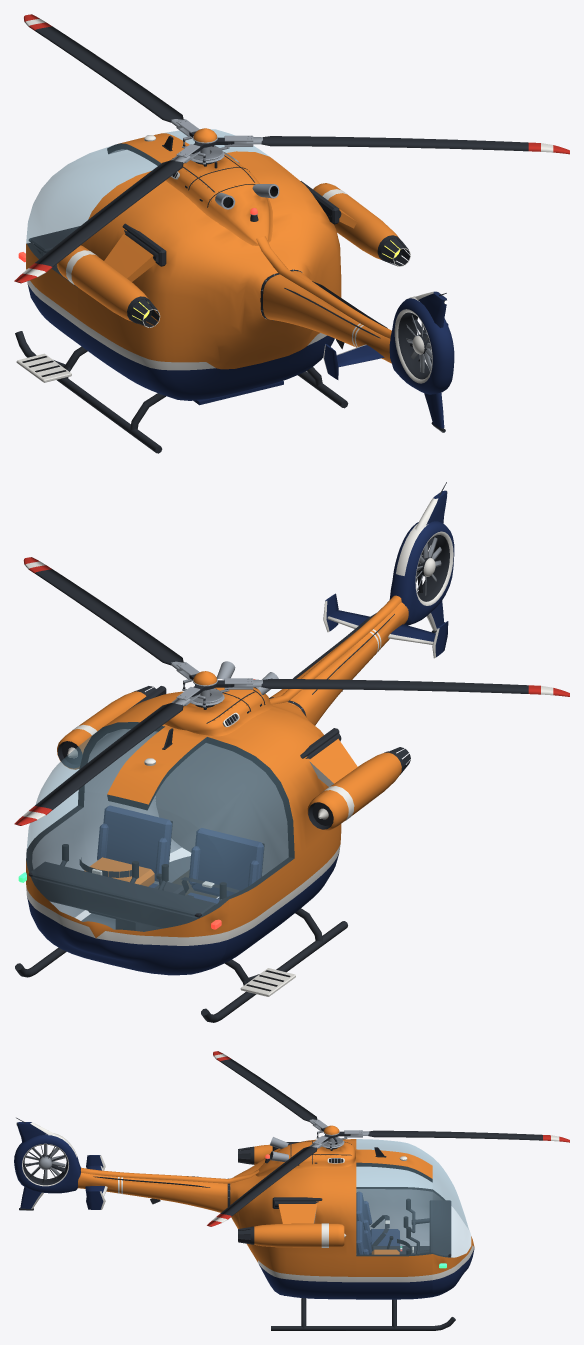
The model's file is helicopter_boarding.glb.
The picture shows the model from 3 angles, top to bottom: view 1: azimuth 30°, elevation 25°; view 2: azimuth 150°, elevation 25°; view 3: azimuth 270°, elevation 25°; orthographic projection. The views are drawn at different scales.
Parts seen in each view (by area): view 1: Body, Door_L, MainRotorBlades, Windows, JetPod_L, FrameAndSkids, JetPod_R, MainRotor, Step_L, Interior, JetNozzle_L, JetNozzle_R; view 2: Body, Windows, Interior, Door_L, MainRotorBlades, Door_R, JetPod_L, Seat_L, Seat_R, FrameAndSkids, JetPod_R, MainRotor (+2 smaller); view 3: Body, Door_R, Door_L, MainRotorBlades, JetPod_R, Windows, Interior, FrameAndSkids, Seat_L, MainRotor, Seat_R, TailRotor.
Boxes of the visible parts, x1,y1,x2,y2 form: Body: (26, 133, 454, 432); Door_L: (26, 143, 160, 354); MainRotorBlades: (14, 14, 569, 283); Windows: (26, 135, 194, 243); JetPod_L: (57, 230, 158, 323); FrameAndSkids: (15, 181, 348, 453); JetPod_R: (313, 183, 402, 262); MainRotor: (171, 119, 262, 164); Step_L: (16, 353, 71, 382); Interior: (28, 226, 79, 266); JetNozzle_L: (130, 299, 160, 327); JetNozzle_R: (381, 238, 410, 266); Body: (26, 482, 454, 975); Windows: (26, 791, 228, 931); Interior: (28, 731, 288, 931); Door_L: (149, 737, 294, 968); MainRotorBlades: (14, 557, 569, 825); Door_R: (27, 722, 164, 910); JetPod_L: (305, 733, 403, 830); Seat_L: (188, 828, 264, 903); Seat_R: (88, 805, 172, 918); FrameAndSkids: (15, 686, 347, 1022); JetPod_R: (57, 690, 148, 769); MainRotor: (171, 661, 262, 707); Body: (14, 1117, 474, 1299); Door_R: (356, 1163, 432, 1298); Door_L: (356, 1139, 432, 1241); MainRotorBlades: (207, 1051, 569, 1226); JetPod_R: (250, 1201, 346, 1247); Windows: (432, 1158, 470, 1257); Interior: (356, 1200, 451, 1256); FrameAndSkids: (271, 1142, 455, 1330); Seat_L: (356, 1191, 399, 1254); MainRotor: (309, 1119, 369, 1149); Seat_R: (356, 1221, 372, 1254); TailRotor: (25, 1144, 65, 1179).
Size of the model in its own units: 9.24 by 4.5 by 12.36.
